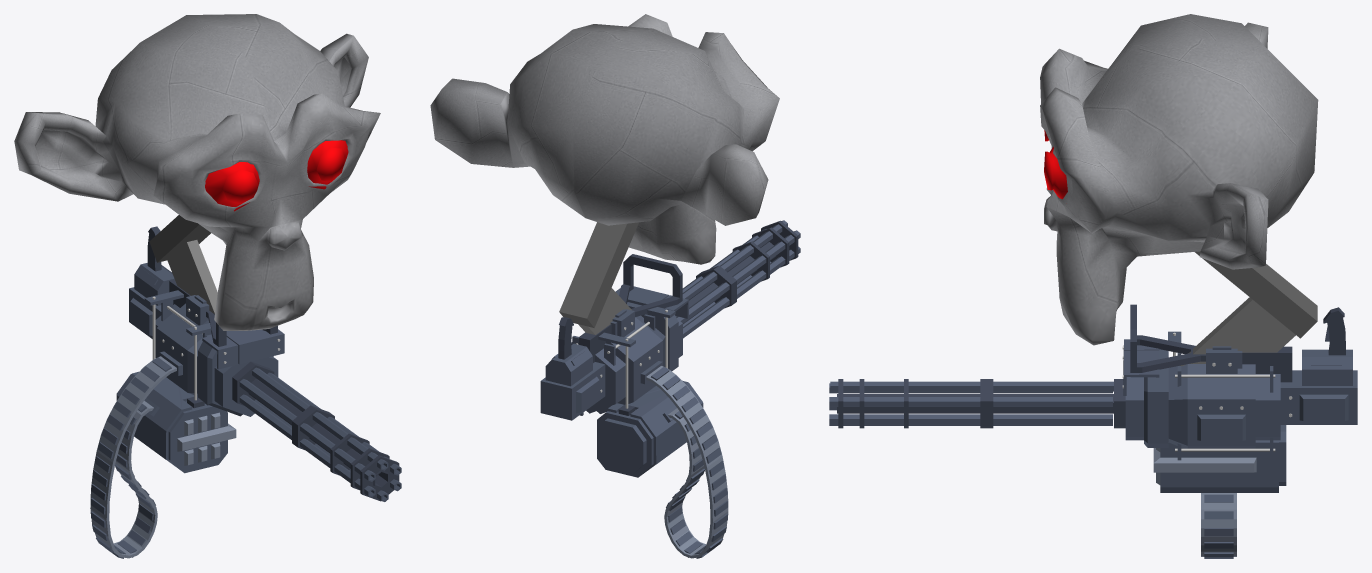
Rendered from GUNKEY.fbx.
3 views of the same model, side by side, from view 1: azimuth 30°, elevation 25°; view 2: azimuth 150°, elevation 25°; view 3: azimuth 270°, elevation 25° (orthographic). The views are drawn at different scales.
Visible parts, largest first — view 1: Suzanne, Line001, Cylinder001, machine_gun, Cylinder009, Box012, Cylinder010, Cube.001, Cube, Cylinder007, Cylinder002, Cylinder006 (+7 smaller); view 2: Suzanne, Cube, Line001, Cylinder010, Cylinder001, machine_gun, Cylinder009, Box001, Box031, Box003, Cylinder007, Cylinder034 (+8 smaller); view 3: Suzanne, Cylinder009, Cylinder001, Cylinder010, Cube, Cube.001, Cylinder002, Cylinder004, Cylinder003, Box001, Cylinder019, Box031 (+12 smaller).
Part boxes in pixels (x1=…): Suzanne: x1=14, y1=14, x2=380, y2=330; Line001: x1=90, y1=356, x2=176, y2=558; Cylinder001: x1=232, y1=361, x2=399, y2=501; machine_gun: x1=116, y1=371, x2=209, y2=459; Cylinder009: x1=156, y1=303, x2=208, y2=395; Box012: x1=202, y1=329, x2=284, y2=369; Cylinder010: x1=116, y1=374, x2=227, y2=473; Cube.001: x1=167, y1=240, x2=217, y2=314; Cube: x1=149, y1=215, x2=210, y2=262; Cylinder007: x1=239, y1=379, x2=375, y2=481; Cylinder002: x1=252, y1=367, x2=388, y2=470; Cylinder006: x1=239, y1=394, x2=375, y2=497; Suzanne: x1=430, y1=14, x2=779, y2=264; Cube: x1=559, y1=222, x2=638, y2=327; Line001: x1=646, y1=366, x2=728, y2=558; Cylinder010: x1=597, y1=383, x2=702, y2=477; Cylinder001: x1=675, y1=220, x2=798, y2=324; machine_gun: x1=608, y1=380, x2=703, y2=464; Cylinder009: x1=571, y1=315, x2=665, y2=413; Box001: x1=540, y1=362, x2=605, y2=420; Box031: x1=619, y1=254, x2=682, y2=317; Box003: x1=545, y1=343, x2=592, y2=386; Cylinder007: x1=676, y1=230, x2=800, y2=323; Cylinder034: x1=586, y1=348, x2=625, y2=413; Suzanne: x1=1040, y1=14, x2=1318, y2=345; Cylinder009: x1=1168, y1=364, x2=1255, y2=448; Cylinder001: x1=837, y1=379, x2=1125, y2=428; Cylinder010: x1=1160, y1=425, x2=1286, y2=492; Cube: x1=1195, y1=251, x2=1317, y2=338; Cube.001: x1=1180, y1=297, x2=1295, y2=366; Cylinder002: x1=830, y1=381, x2=1113, y2=391; Cylinder004: x1=829, y1=414, x2=1112, y2=424; Cylinder003: x1=829, y1=397, x2=1112, y2=406; Box001: x1=1280, y1=370, x2=1357, y2=424; Cylinder019: x1=1144, y1=349, x2=1168, y2=447; Box031: x1=1130, y1=304, x2=1205, y2=372.
Bounding box in the file's own units: 273 × 382 × 323.
